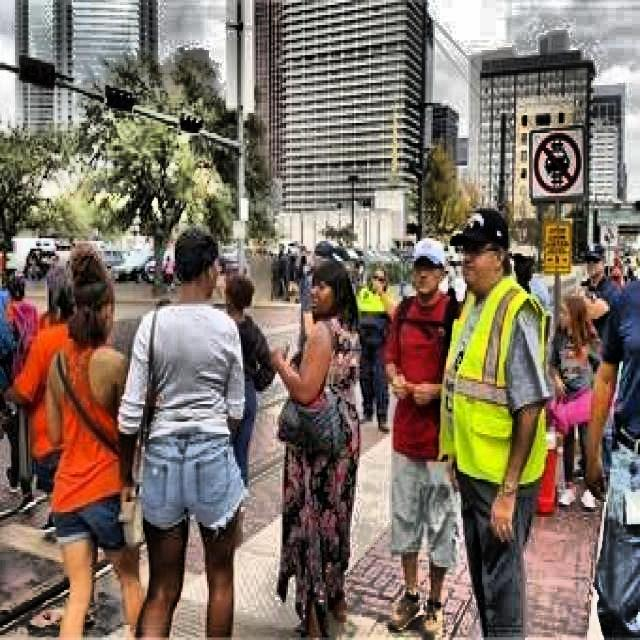safety_jacket: (446, 282, 540, 488)
